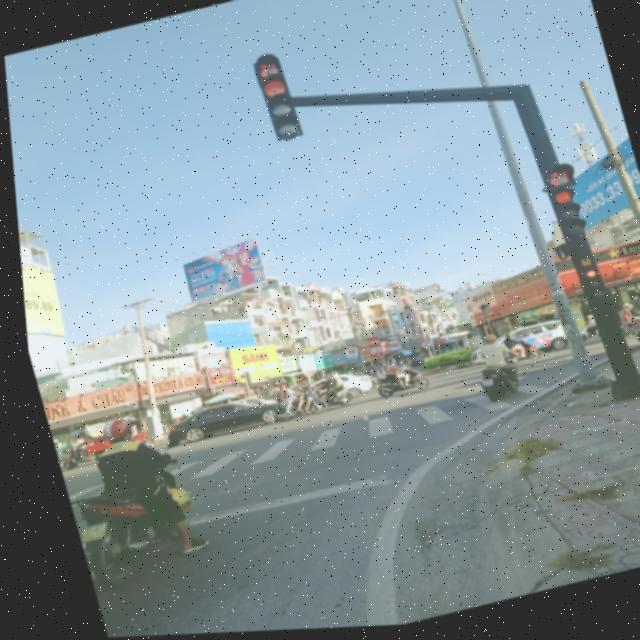Red: (249, 73, 308, 148), (541, 187, 587, 247), (567, 268, 608, 312)
